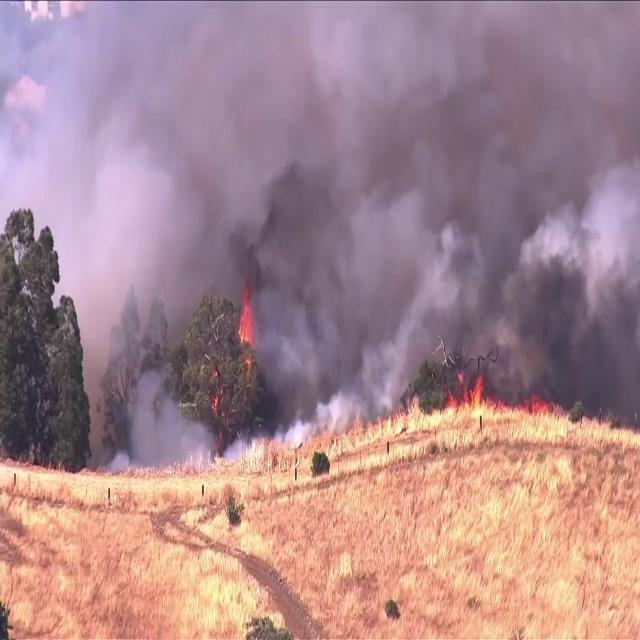Fire: (235, 287, 256, 343)
Smoke: (22, 1, 640, 428)
